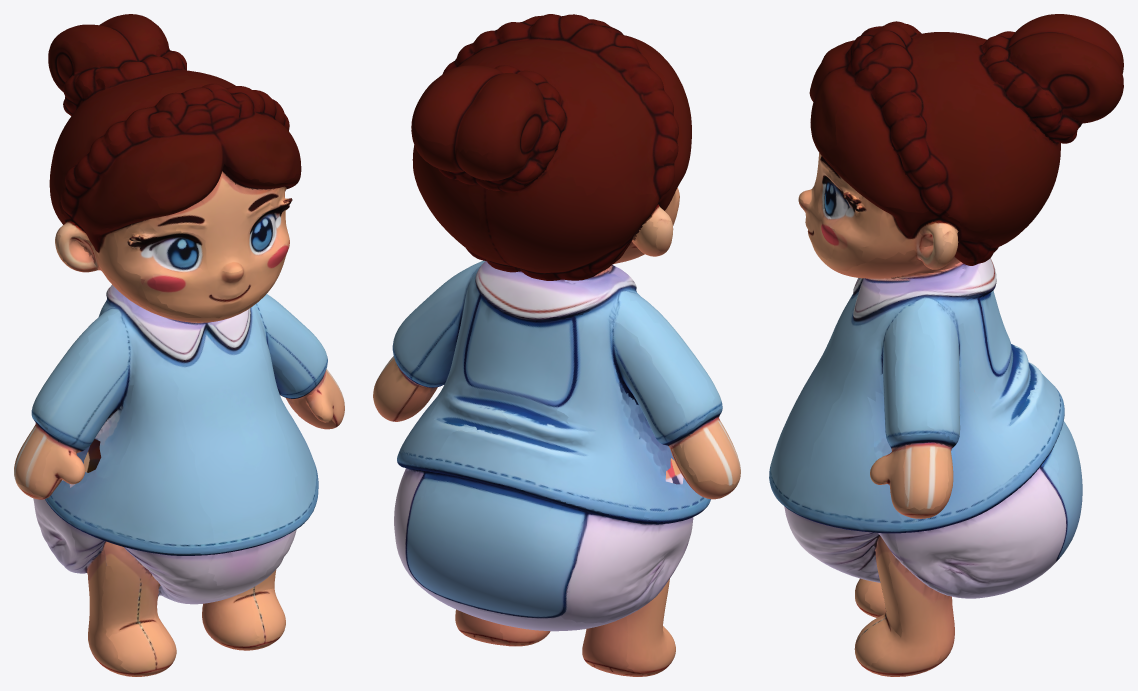
File: karolinedoll.glb
3 views of the same model, side by side, from view 1: azimuth 30°, elevation 25°; view 2: azimuth 150°, elevation 25°; view 3: azimuth 270°, elevation 25° (orthographic). The views are drawn at different scales.
Visible parts, largest first — view 1: temp_mesh.ply; view 2: temp_mesh.ply; view 3: temp_mesh.ply.
Part boxes in pixels (box(x1,y1,x2,y2)): temp_mesh.ply: box(14, 14, 344, 676); temp_mesh.ply: box(373, 14, 740, 676); temp_mesh.ply: box(769, 14, 1123, 676).
Bounding box in the file's own units: 1.16 × 1.97 × 1.03.
Materials: 1 (1 with a texture image).
